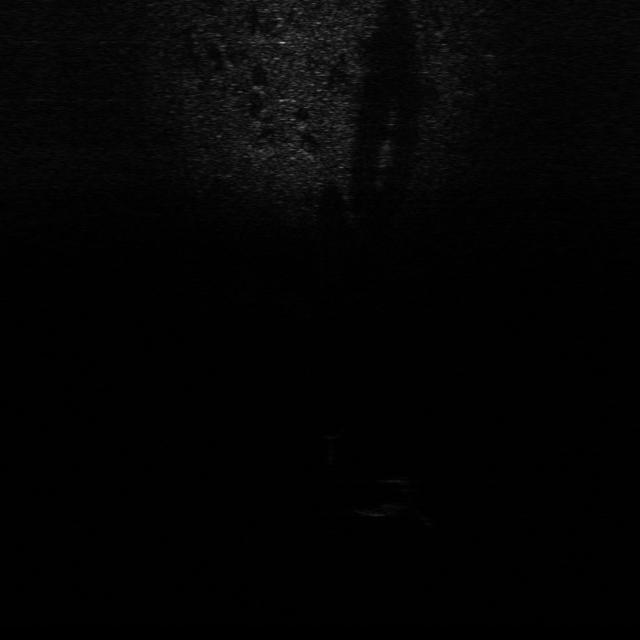tyre: (346, 470, 426, 520)
